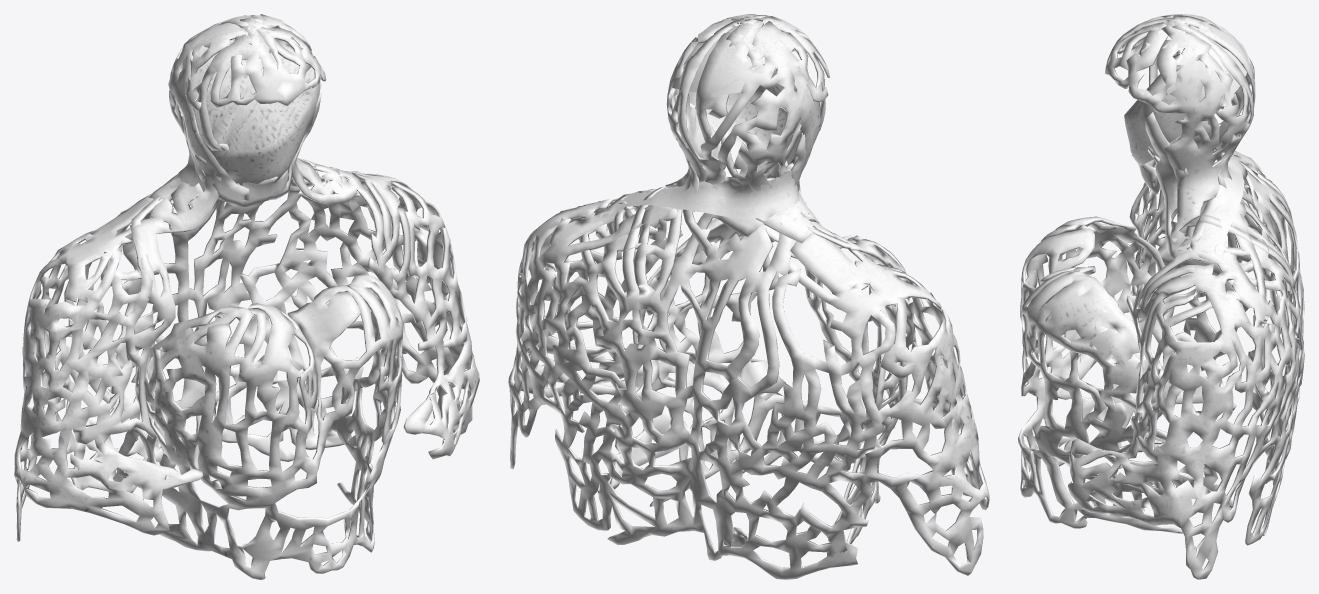
Rendered from wire_mesh_sculpture.glb.
3 views of the same model, side by side, from view 1: azimuth 30°, elevation 25°; view 2: azimuth 150°, elevation 25°; view 3: azimuth 270°, elevation 25° (orthographic). The views are drawn at different scales.
Bounding box in the file's own units: 1.84 × 1.91 × 1.04.
Materials: 1 (1 with a texture image).
